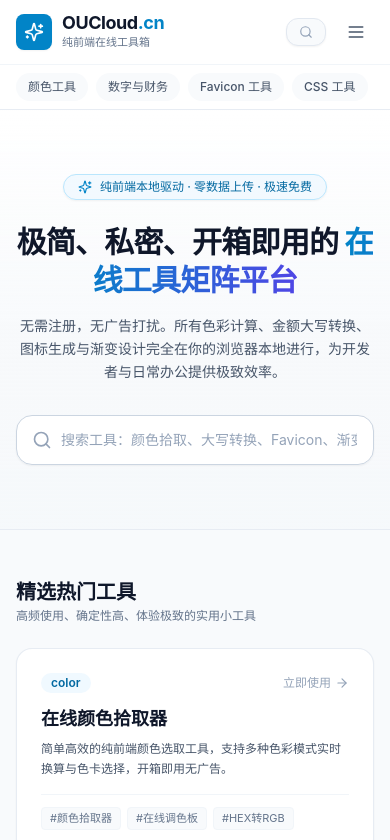
全站路由与端到端交互 › 移动端汉堡按钮能正确展开和收起快捷菜单
Expected: the text "全部在线工具" is not shown
Click the button named "打开导航菜单": click(356, 32) 338,14 -> 374,50
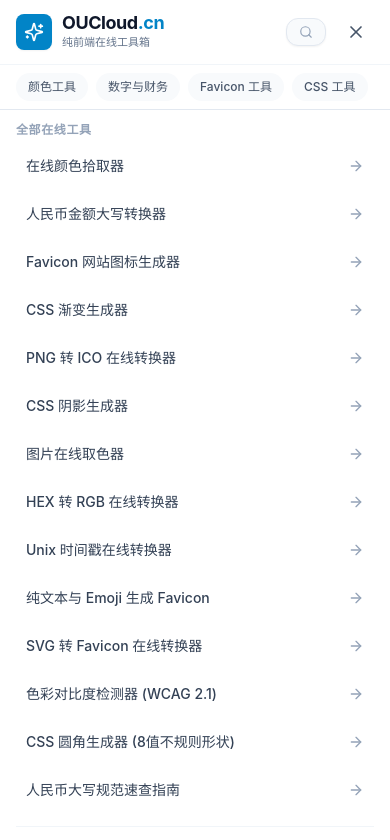
Result: the text "全部在线工具" is shown at 16,122 -> 92,137
Result: the button named "关闭导航菜单" is shown
Click the button named "关闭导航菜单": click(356, 32) 338,14 -> 374,50
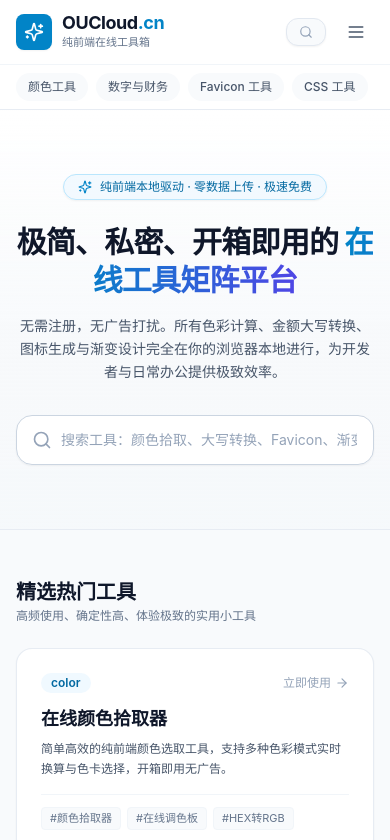
Result: the text "全部在线工具" is gone
